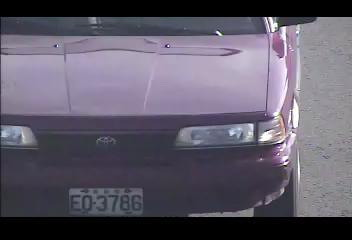plate: (67, 187, 144, 217)
